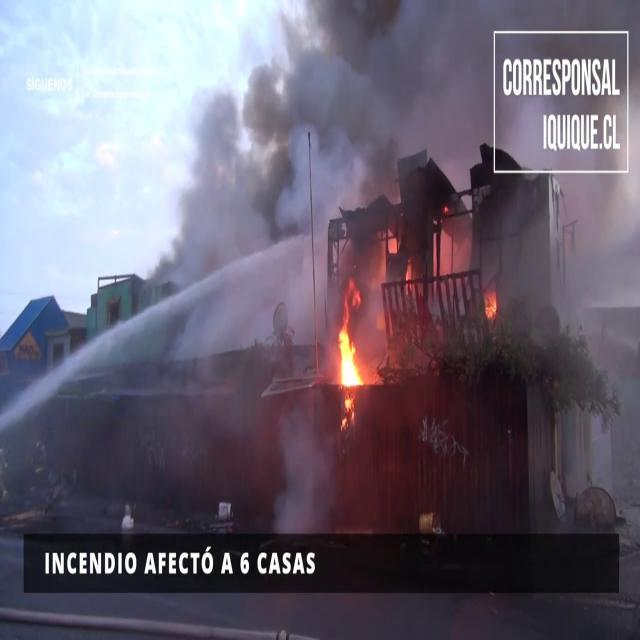Fire: (335, 318, 364, 398)
Smoke: (181, 0, 496, 269)
